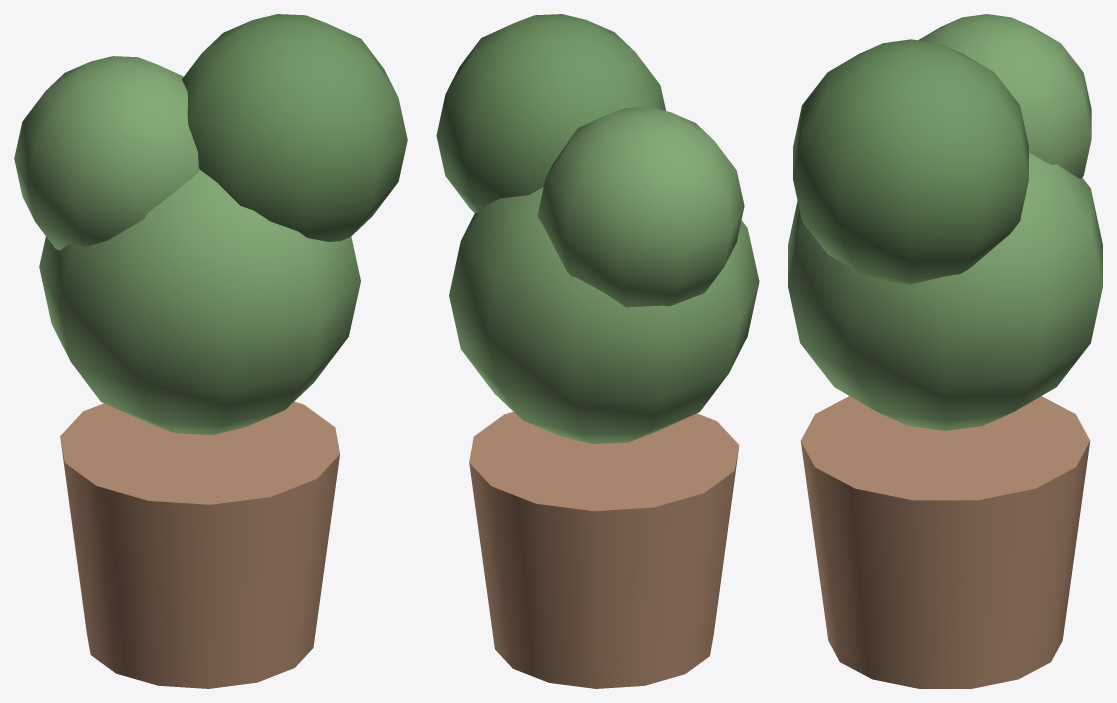
The model's file is 0887-Furniture-interiors-plant.glb.
The picture shows the model from 3 angles, left to right: view 1: azimuth 30°, elevation 25°; view 2: azimuth 150°, elevation 25°; view 3: azimuth 270°, elevation 25°; orthographic projection. The views are drawn at different scales.
Parts seen in each view (by area): view 1: Furniture (interiors)/plant; view 2: Furniture (interiors)/plant; view 3: Furniture (interiors)/plant.
Boxes of the visible parts, x1,y1,x2,y2 form: Furniture (interiors)/plant: (14, 14, 407, 688); Furniture (interiors)/plant: (436, 14, 759, 688); Furniture (interiors)/plant: (788, 14, 1102, 688).
Bounding box in the file's own units: 0.56 × 1 × 0.4565.
